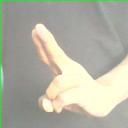hand: (31, 22, 115, 118)
